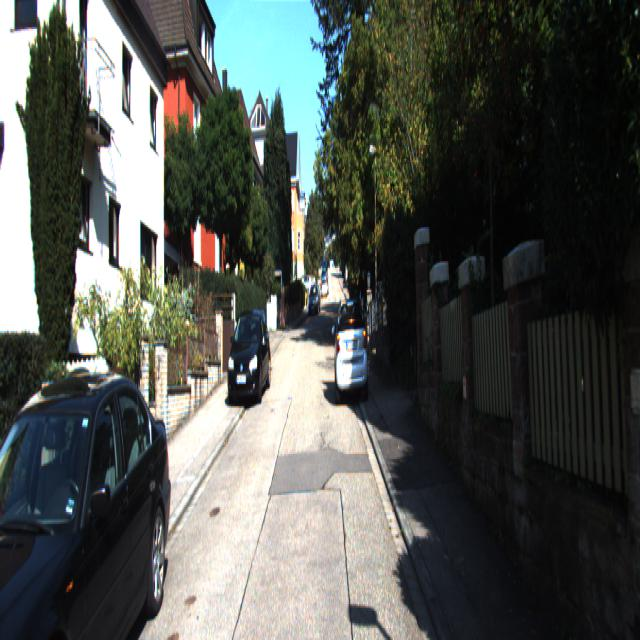Car: (0, 360, 178, 639), (224, 310, 272, 410), (334, 294, 368, 406)
